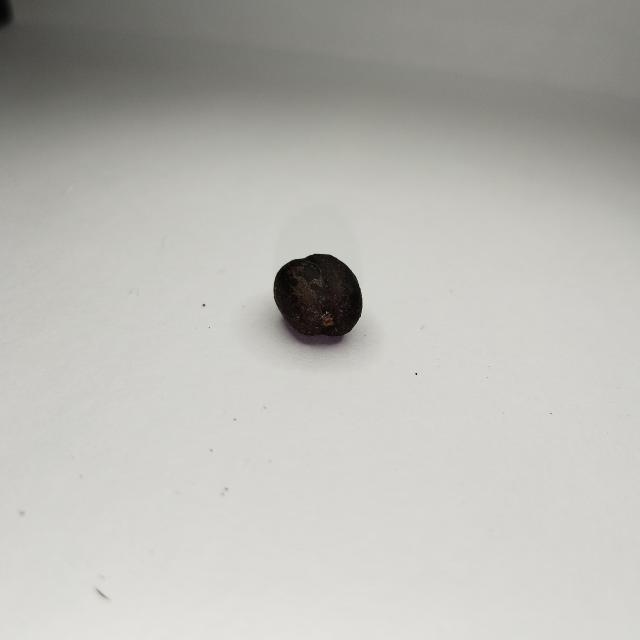Danado: (274, 253, 362, 340)
